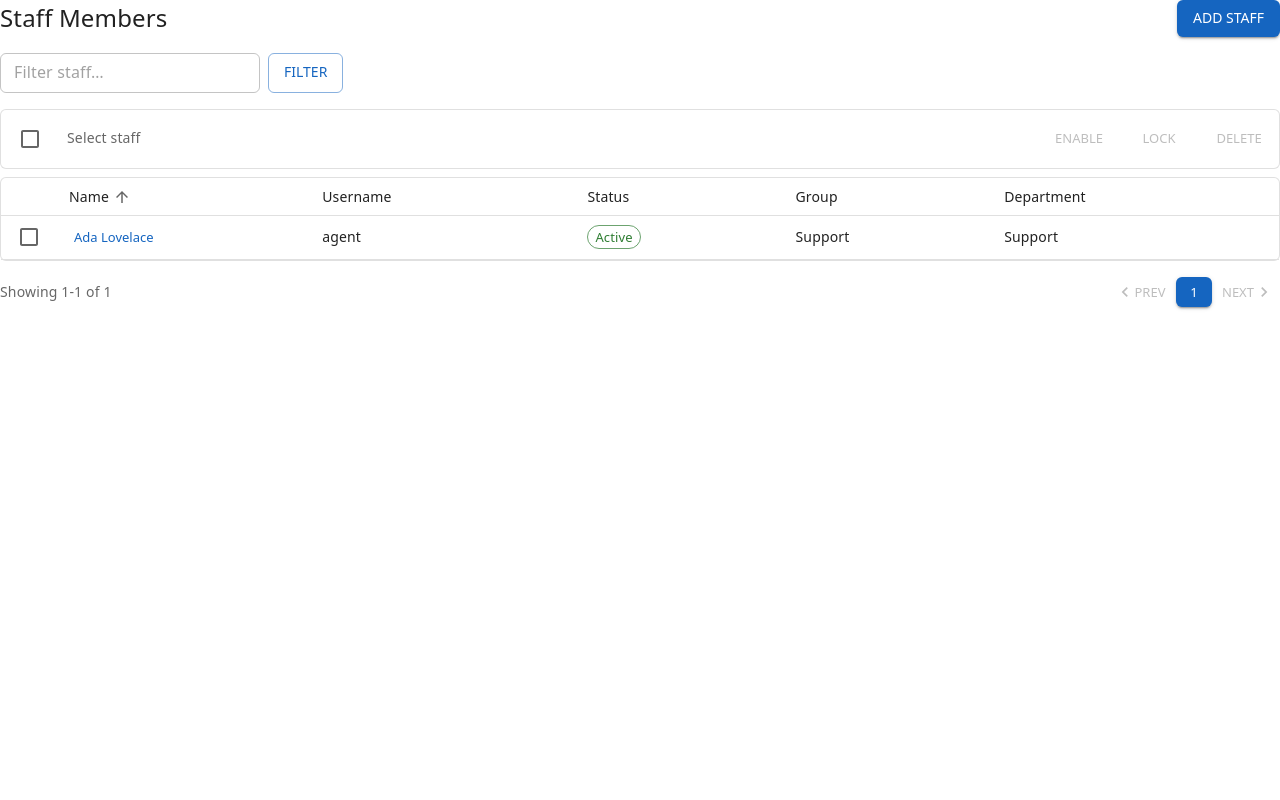
StaffListPage (TS-M4-B2) › opens the Add Staff dialog with the group + department selects
Expected: the button "Ada Lovelace" is shown, x1=69 y1=222 x2=159 y2=253
Click the button with test id "add-staff": coordinates (1228, 18) x1=1177 y1=0 x2=1279 y2=36
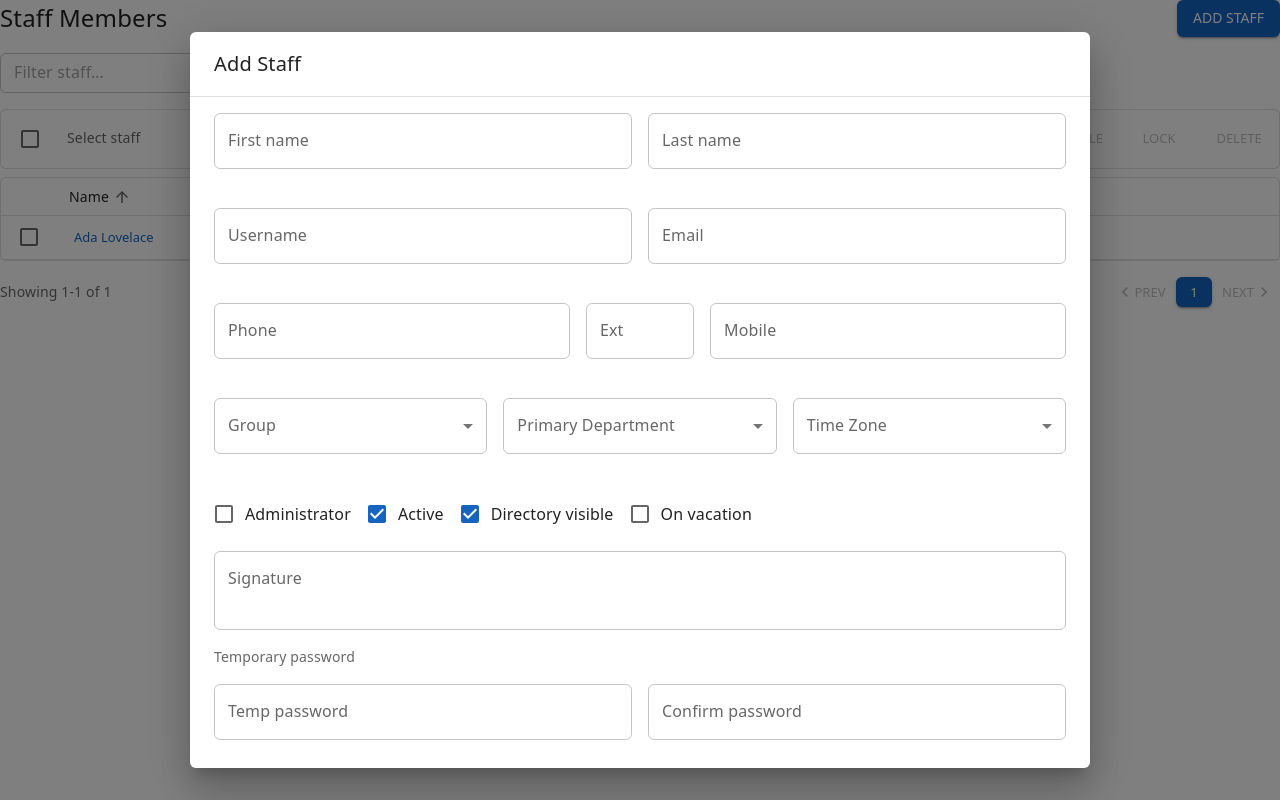
Result: the field with test id "staff-username" is shown at x1=214 y1=208 x2=632 y2=264
Result: the element with test id "staff-group" is shown at x1=214 y1=398 x2=487 y2=454
Result: the element with test id "staff-dept" is shown at x1=503 y1=398 x2=777 y2=454
